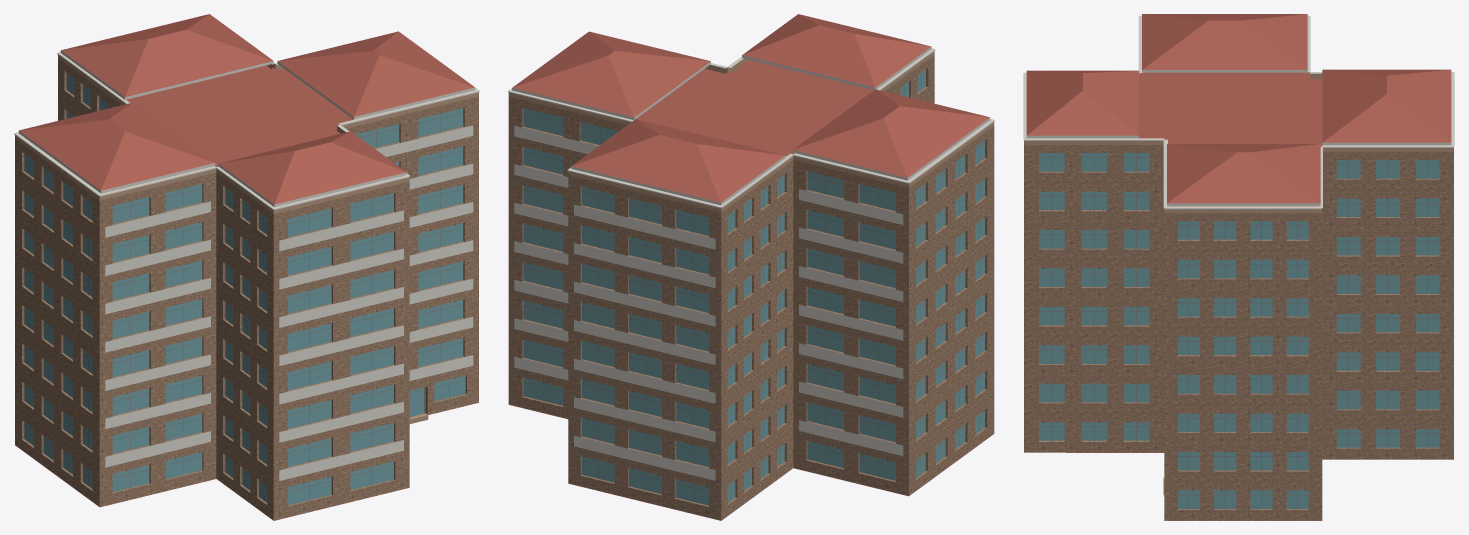
3 renders of one model, left to right at view 1: azimuth 30°, elevation 25°; view 2: azimuth 150°, elevation 25°; view 3: azimuth 270°, elevation 25°, orthographic.
Visible parts, largest first — view 1: dormEast__wall, dormEast__roof, dormEast__glass, dormEast__wall2, dormEast__frame, dormEast__trim, dormEast__parapet; view 2: dormEast__wall, dormEast__roof, dormEast__glass, dormEast__wall2, dormEast__frame, dormEast__trim, dormEast__parapet; view 3: dormEast__wall, dormEast__roof, dormEast__glass, dormEast__frame, dormEast__trim, dormEast__parapet.
Boxes of the visible parts, x1,y1,x2,y2 form: dormEast__wall: [15, 58, 478, 520]; dormEast__roof: [15, 14, 478, 520]; dormEast__glass: [24, 73, 465, 505]; dormEast__wall2: [105, 125, 473, 480]; dormEast__frame: [24, 76, 465, 500]; dormEast__trim: [14, 50, 479, 210]; dormEast__parapet: [15, 55, 478, 214]; dormEast__wall: [508, 55, 994, 520]; dormEast__roof: [509, 14, 993, 520]; dormEast__glass: [523, 69, 984, 505]; dormEast__wall2: [514, 125, 903, 480]; dormEast__frame: [523, 72, 985, 501]; dormEast__trim: [508, 47, 994, 208]; dormEast__parapet: [508, 51, 994, 212]; dormEast__wall: [1024, 145, 1453, 520]; dormEast__roof: [1026, 14, 1451, 520]; dormEast__glass: [1039, 153, 1439, 508]; dormEast__frame: [1039, 153, 1439, 508]; dormEast__trim: [1023, 15, 1454, 209]; dormEast__parapet: [1024, 73, 1453, 213].
Size of the model in its own units: 38.66 by 32 by 36.59.
Materials: 9 (1 with a texture image).
